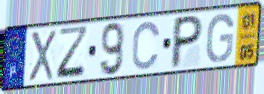9: (99, 21, 125, 77)
C: (131, 19, 162, 72)
G: (204, 12, 235, 65)
P: (168, 14, 205, 71)
X: (27, 29, 57, 84)
Z: (55, 24, 91, 82)
